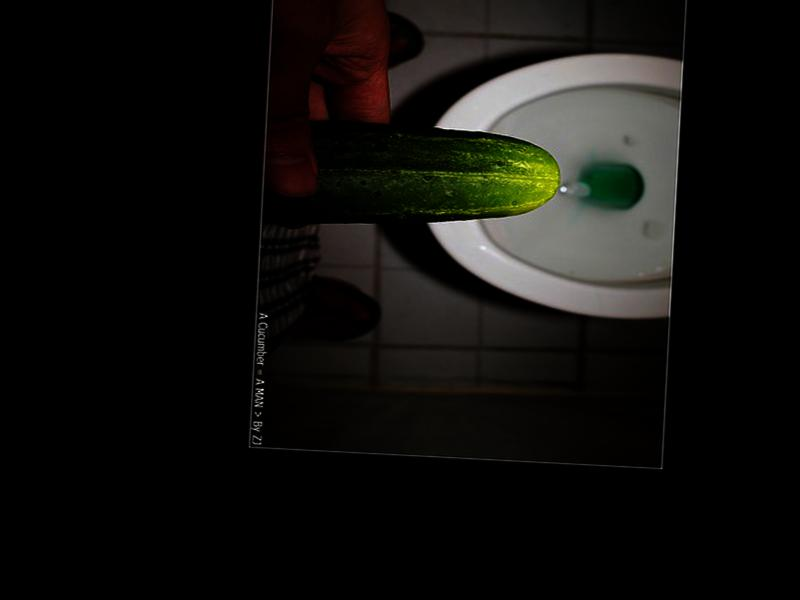Cucumber: (257, 118, 561, 238)
